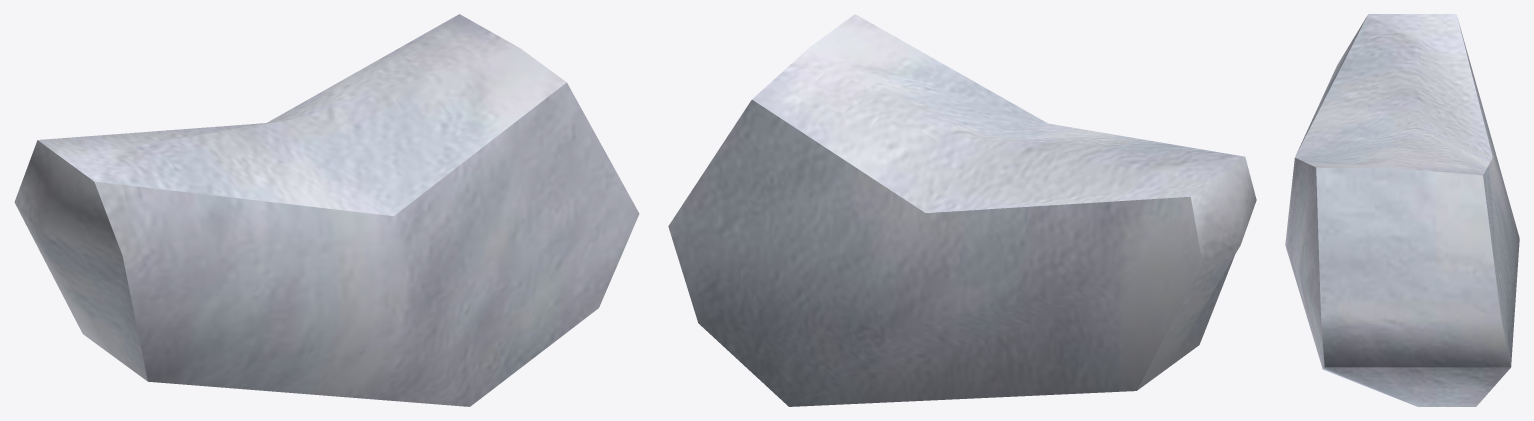
Rendered from deneme_2.obj.
The picture shows the model from 3 angles, left to right: view 1: azimuth 30°, elevation 25°; view 2: azimuth 150°, elevation 25°; view 3: azimuth 270°, elevation 25°; orthographic projection. The views are drawn at different scales.
Visible parts, largest first — view 1: pCube2; view 2: pCube2; view 3: pCube2.
Boxes of the visible parts, x1,y1,x2,y2 form: pCube2: (14, 14, 639, 406); pCube2: (668, 14, 1256, 406); pCube2: (1285, 14, 1519, 406).
Bounding box in the file's own units: 29.42 × 16.85 × 14.19.
